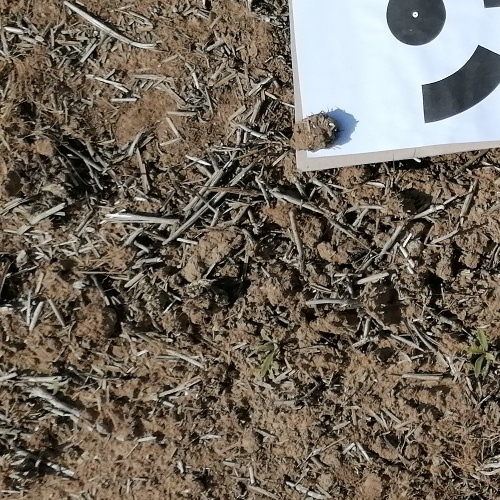beet: (469, 327, 496, 378), (257, 337, 279, 379)
